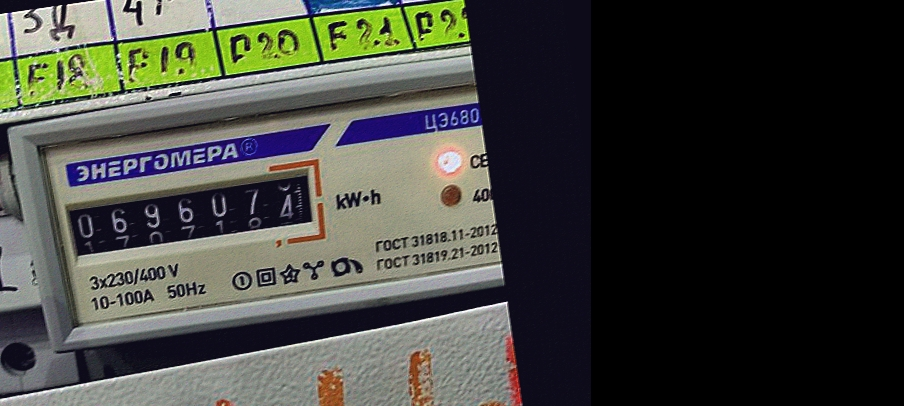0: (73, 208, 98, 239), (208, 186, 230, 218), (109, 204, 129, 232)
4: (275, 190, 296, 220)
6: (174, 191, 196, 224)
7: (241, 183, 263, 214)
9: (141, 198, 163, 228)
screen: (49, 153, 332, 275)
